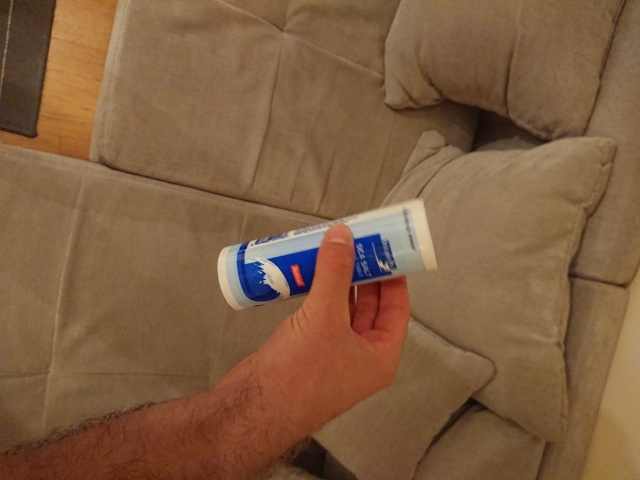Solana Pag Fine Sea Salt 250g: (214, 194, 441, 314)
